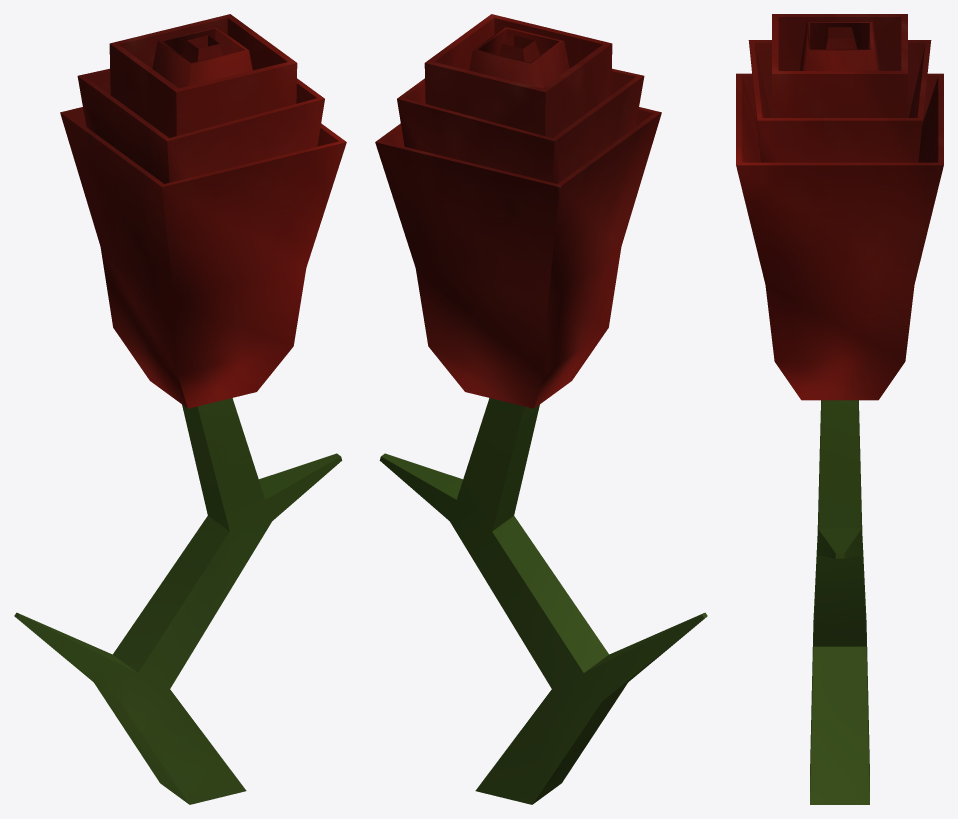
The model's file is gül.fbx.
3 renders of one model, left to right at view 1: azimuth 30°, elevation 25°; view 2: azimuth 150°, elevation 25°; view 3: azimuth 270°, elevation 25°, orthographic.
Visible parts, largest first — view 1: Cube; view 2: Cube; view 3: Cube.
Boxes of the visible parts, x1,y1,x2,y2 form: Cube: (14,14,346,804); Cube: (375,14,707,804); Cube: (736,14,943,804).
Size of the model in its own units: 44.49 by 97.63 by 24.27.
1 material, 1 textured.
